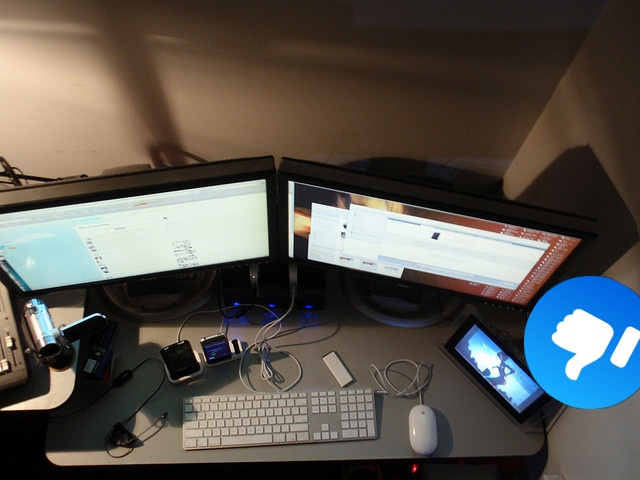like: (524, 276, 640, 409)
